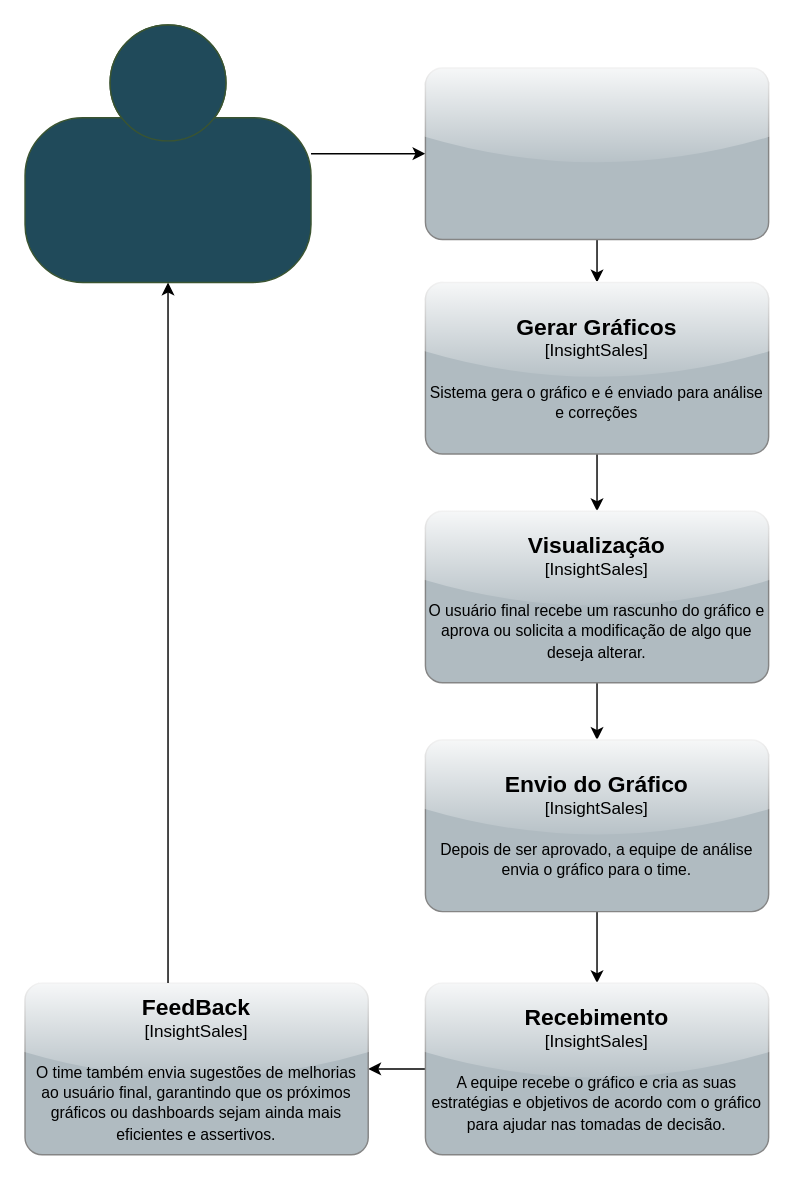
This 794x1180 diagram has some shape labels left out. Each missing label, with the centre of its shape:
"Colaborador [Nome] Usuário utiliza (CRM) para criação de gráficos e dashbords" goes at pixel 167 153.
"Exportar Dados [InsightSales] Planilhas que já contêm dados de clientes/vendas." goes at pixel 596 153.
